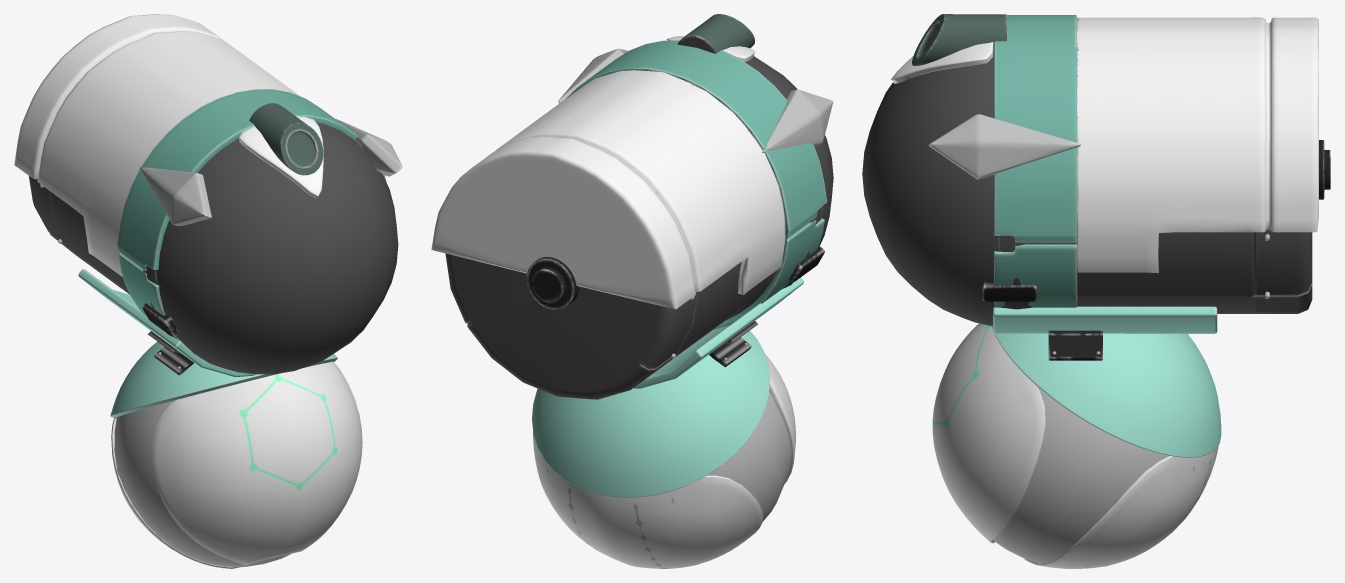
The model's file is cra.fbx.
3 views of the same model, side by side, from view 1: azimuth 30°, elevation 25°; view 2: azimuth 150°, elevation 25°; view 3: azimuth 270°, elevation 25° (orthographic). The views are drawn at different scales.
Parts seen in each view (by area): view 1: cra:polySurface46, ball:polySurface58; view 2: cra:polySurface46, ball:polySurface58; view 3: cra:polySurface46, ball:polySurface58.
Boxes of the visible parts, x1,y1,x2,y2 form: cra:polySurface46: [14, 14, 402, 418]; ball:polySurface58: [111, 361, 362, 568]; cra:polySurface46: [431, 14, 833, 497]; ball:polySurface58: [533, 354, 795, 568]; cra:polySurface46: [862, 14, 1330, 457]; ball:polySurface58: [932, 323, 1218, 568].
Bounding box in the file's own units: 7.12 × 13.54 × 10.63.
